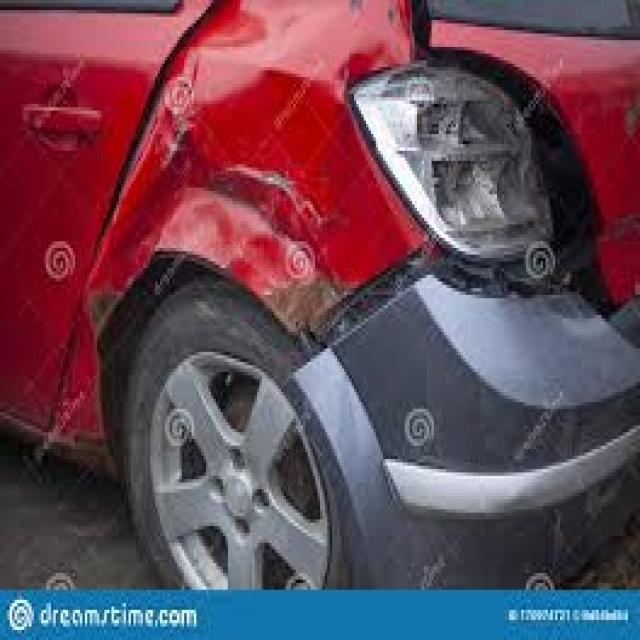damaged-tail-light: (357, 68, 553, 260)
